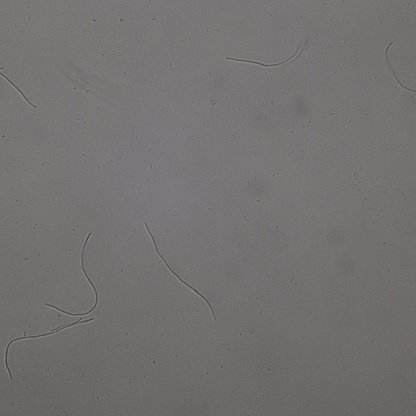Sensitive: (145, 220, 217, 320), (5, 319, 94, 382), (45, 233, 99, 317), (225, 43, 306, 67), (383, 41, 416, 94), (1, 69, 36, 109)
